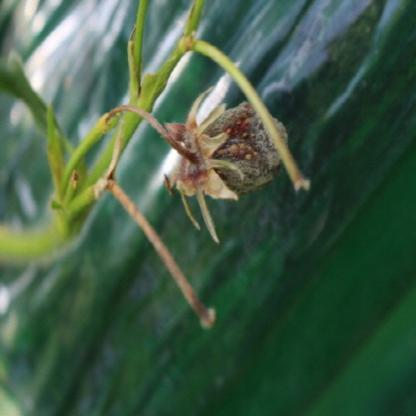Strawberry_Gray_Mold: (160, 85, 289, 244)
